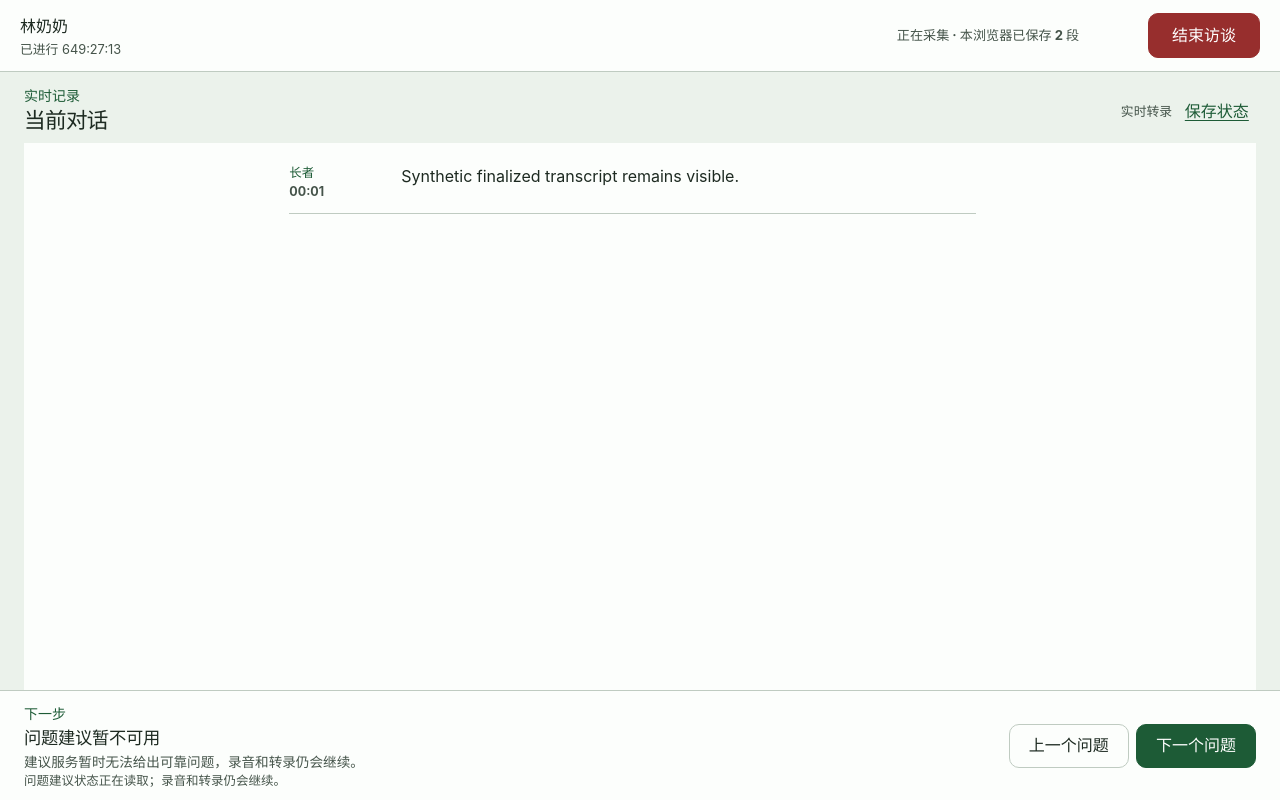
Scenario: WorkbenchShell › projects automatic, continue-listening, unavailable and manual outcomes through the formal Workbench
Expected: the heading "问题建议暂不可用" is shown, x1=24 y1=727 x2=160 y2=748
Expected: the text "Synthetic finalized transcript remains visible." is shown, x1=401 y1=166 x2=739 y2=186
Click the button "下一个问题" at (1196, 746), box x1=1136 y1=724 x2=1256 y2=768
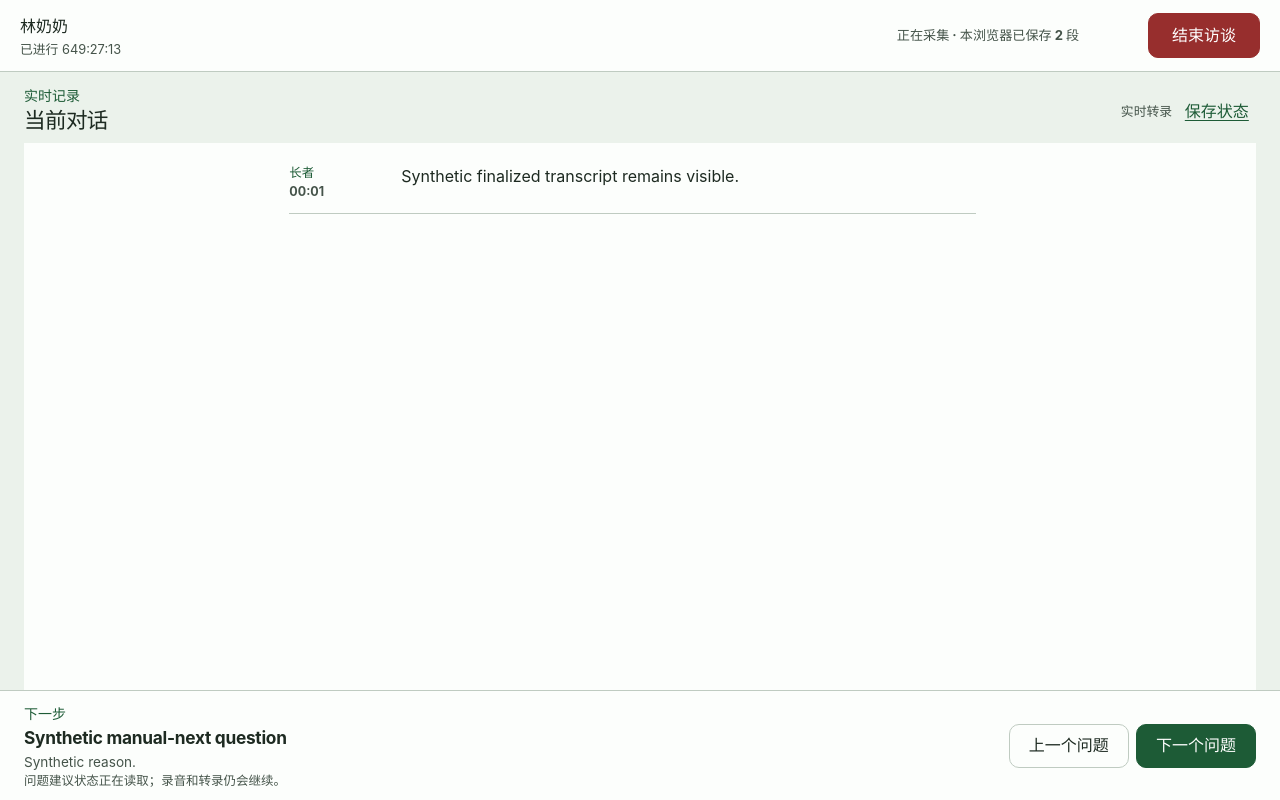
Expected: the heading "Synthetic manual-next question" is shown, x1=24 y1=727 x2=287 y2=748
